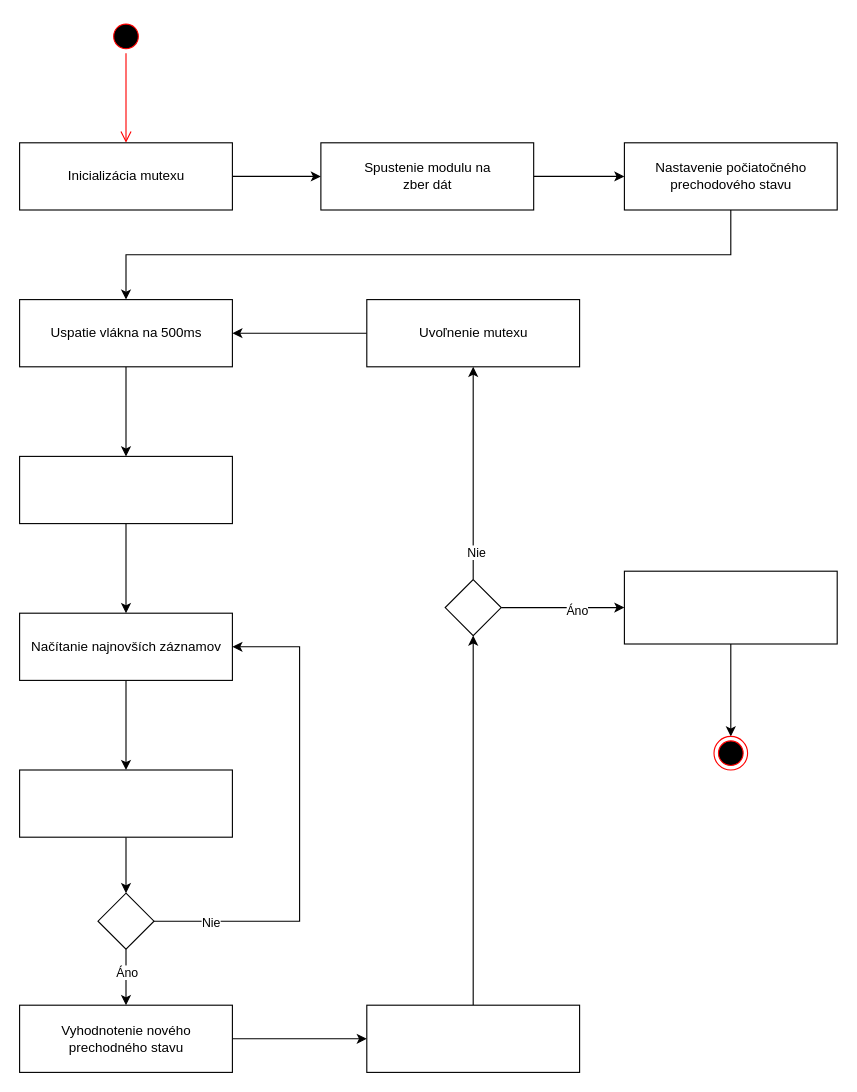
This 857x1092 diagram has some shape labels left out. Each missing label, with the box of its shape:
Je automat v konečnom stave?: (366, 1004, 580, 1072)
Nachádza sa API funkcia v matici konečného stavového automatu?: (18, 769, 232, 837)
Process Hollowing: (623, 570, 837, 644)
Uzamknutie mutexu: (18, 455, 232, 524)
